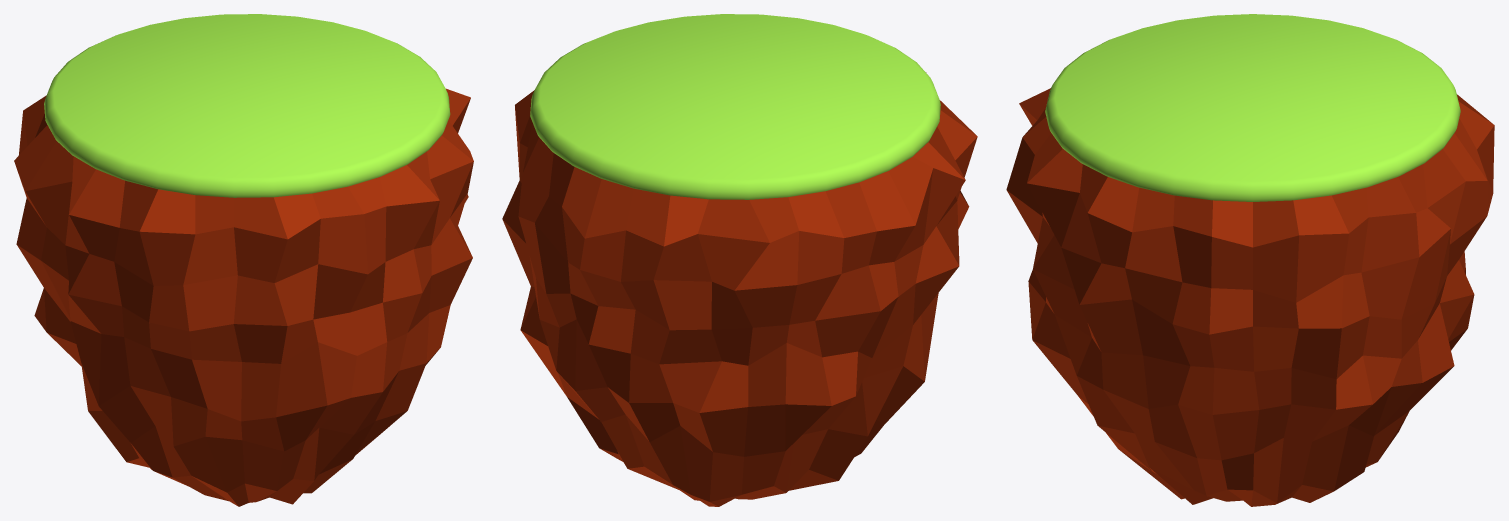
The model's file is island1_Green.fbx.
3 views of the same model, side by side, from view 1: azimuth 30°, elevation 25°; view 2: azimuth 150°, elevation 25°; view 3: azimuth 270°, elevation 25° (orthographic). The views are drawn at different scales.
Visible parts, largest first — view 1: island(1); view 2: island(1); view 3: island(1).
Boxes of the visible parts, x1=… form: island(1): x1=14, y1=14, x2=473, y2=506; island(1): x1=502, y1=14, x2=977, y2=506; island(1): x1=1006, y1=14, x2=1494, y2=506.
Size of the model in its own units: 35.51 by 31.92 by 36.15.
